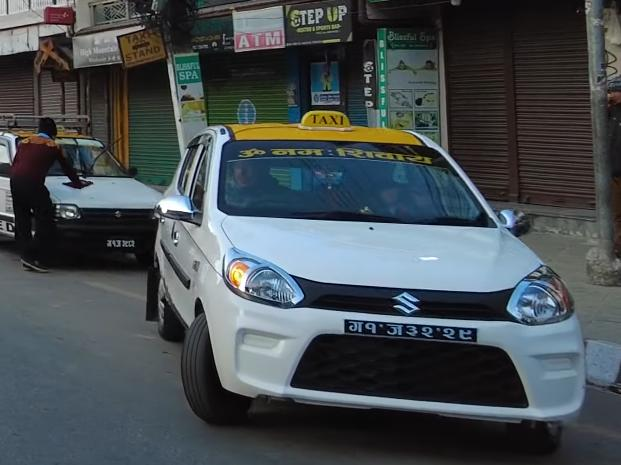taxi: (151, 117, 607, 457), (2, 119, 165, 273)
